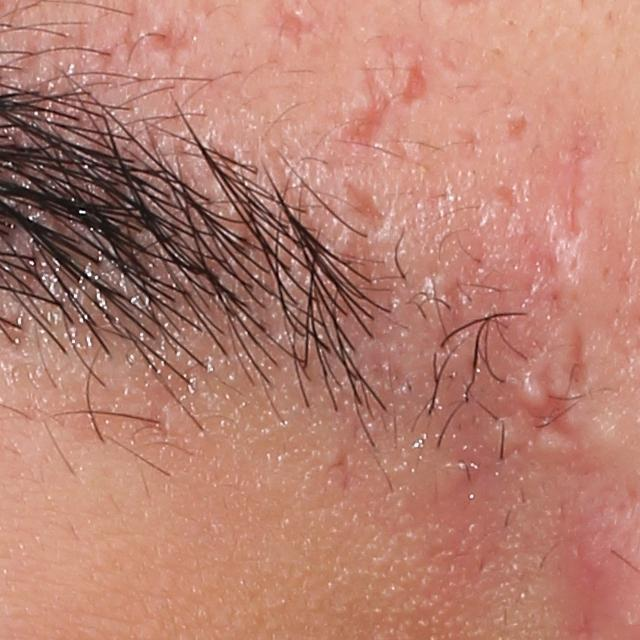atrophic_scar: (495, 366, 586, 443), (334, 66, 393, 152), (340, 181, 390, 236), (139, 26, 193, 71), (563, 131, 586, 234), (399, 54, 430, 105), (569, 327, 585, 398), (503, 111, 533, 143), (491, 185, 523, 214)
hypertrophic_scar: (549, 233, 608, 305), (530, 423, 582, 459), (519, 361, 553, 408), (487, 415, 528, 451)
